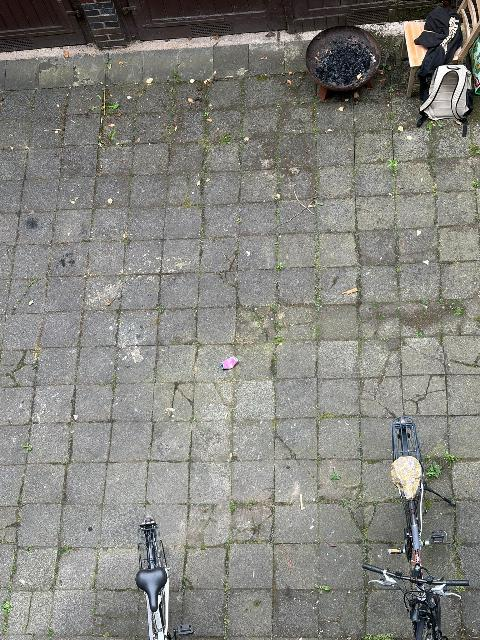can: (220, 357, 238, 369)
